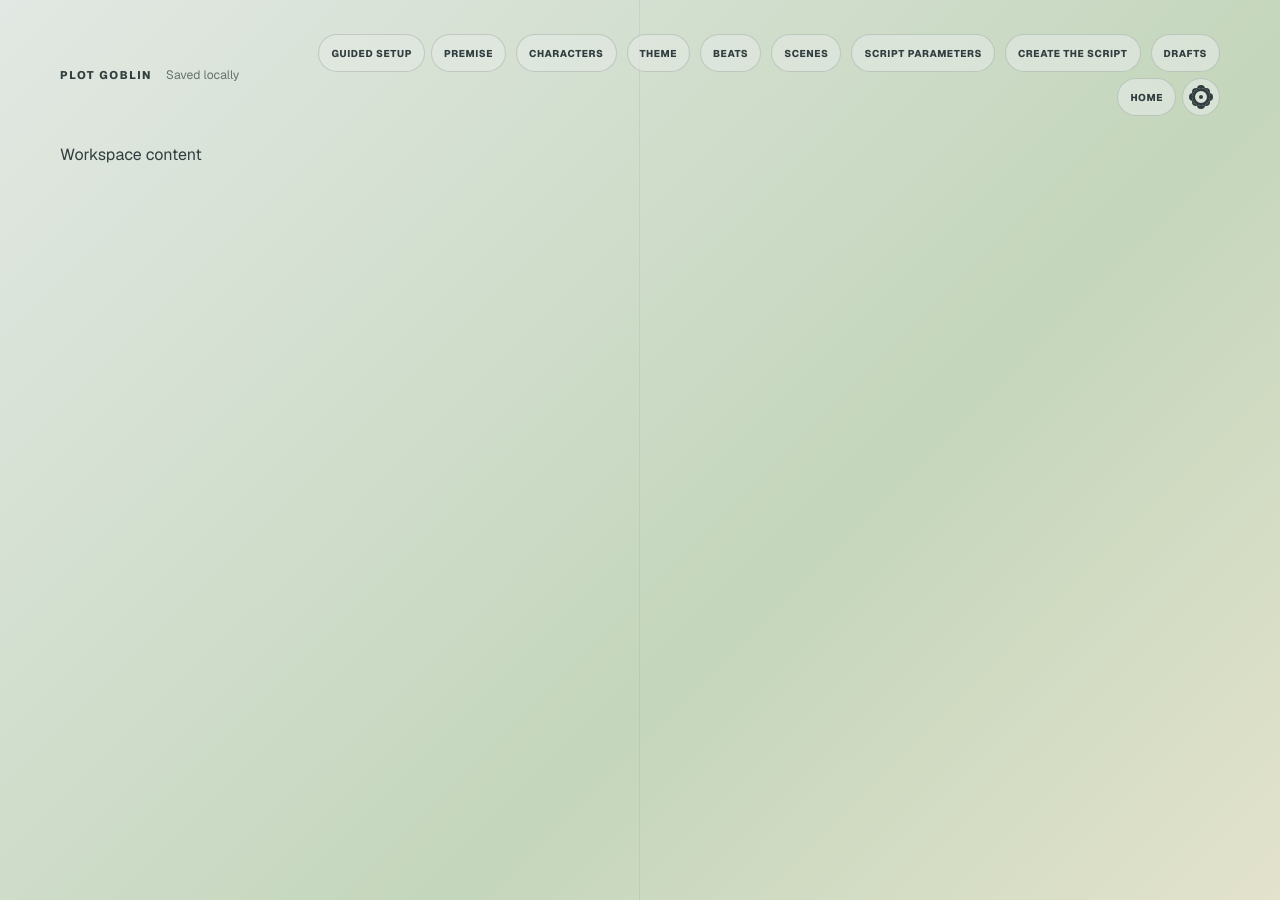
Test: WorkspaceShell › switches AI access back to local from settings
Click the button named "Settings".
click(1201, 97)  # box [1182, 78, 1220, 116]
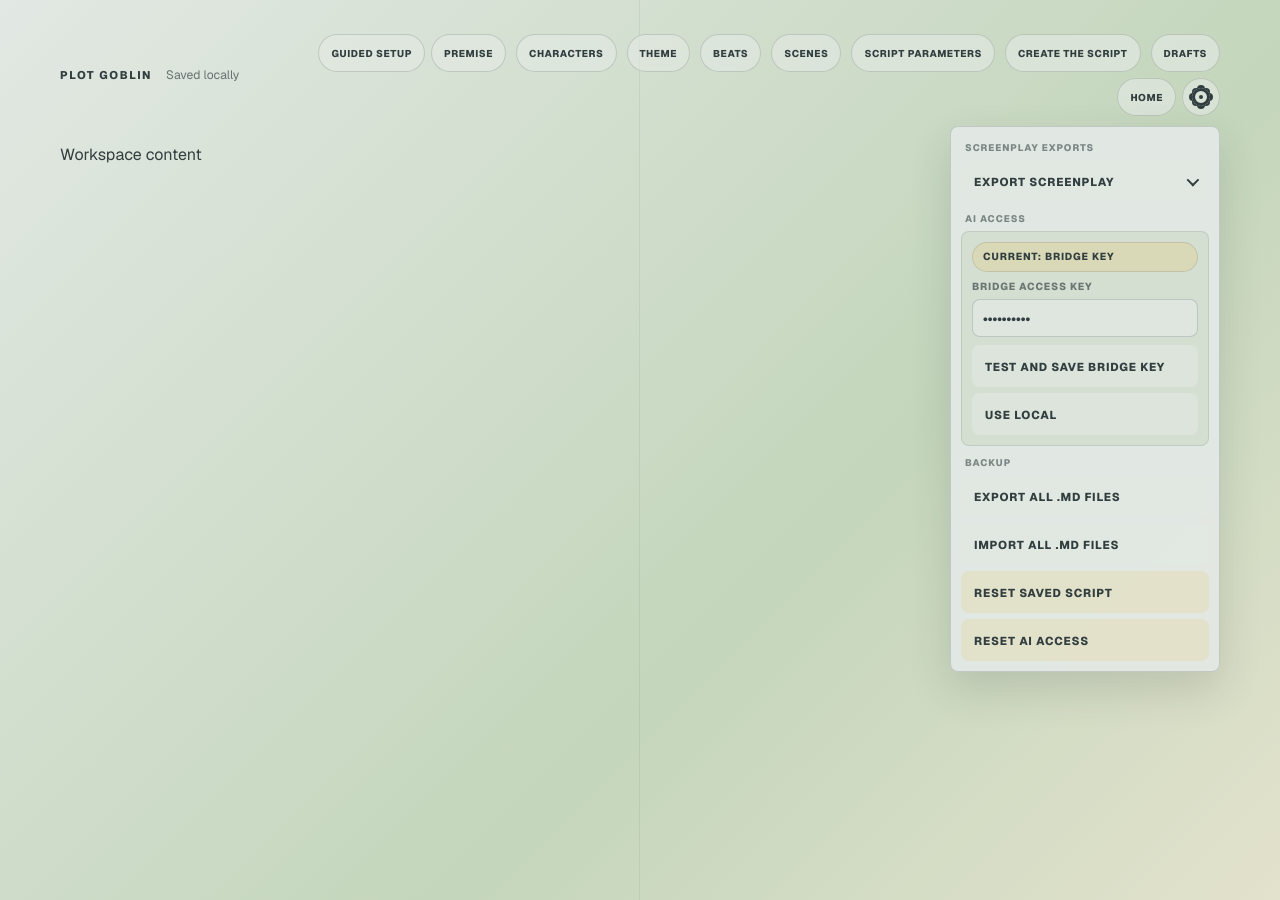
Click the button "Use local".
click(1085, 414)  # box [972, 393, 1198, 435]
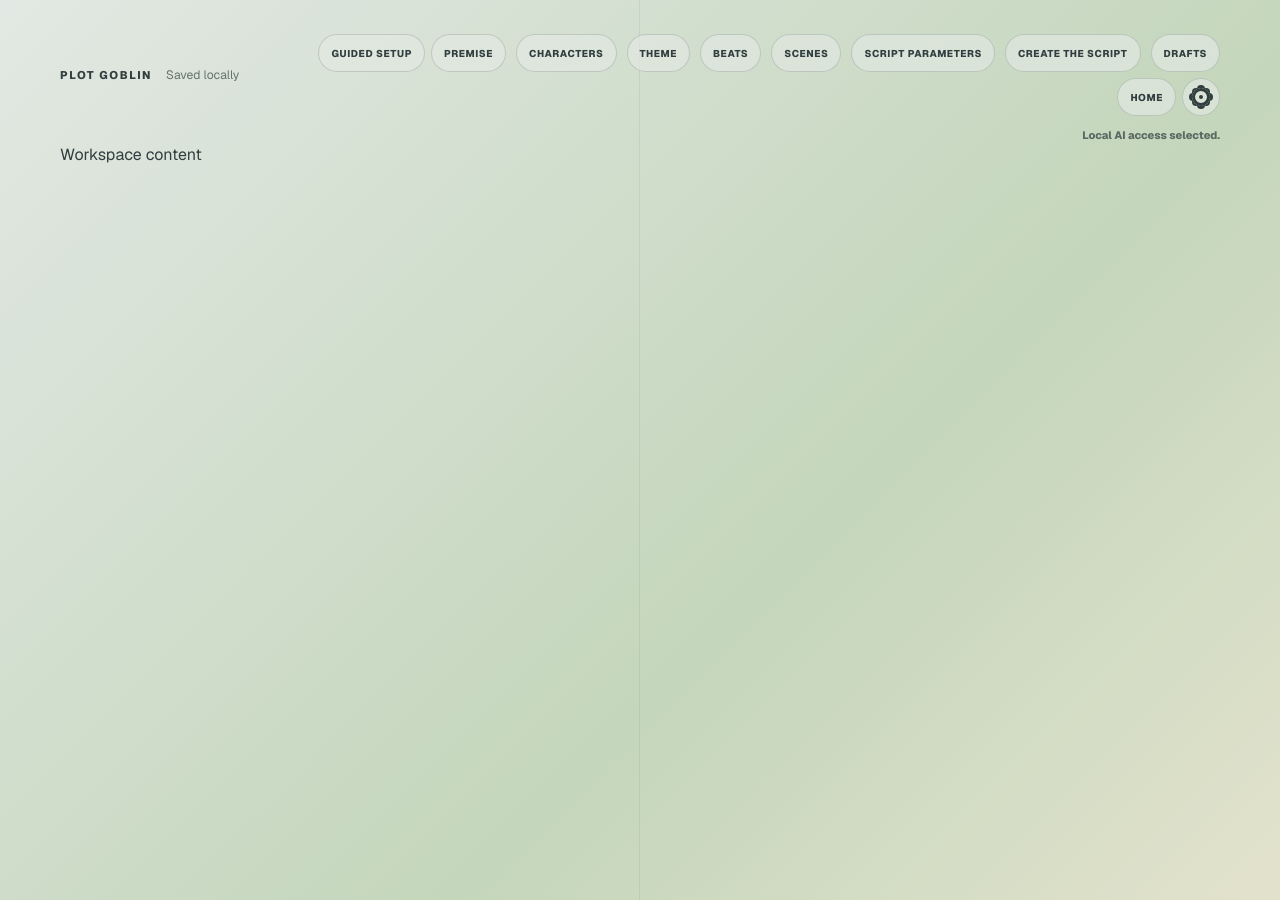
Now the text "Local AI access selected." is shown, box [1082, 128, 1220, 142]
